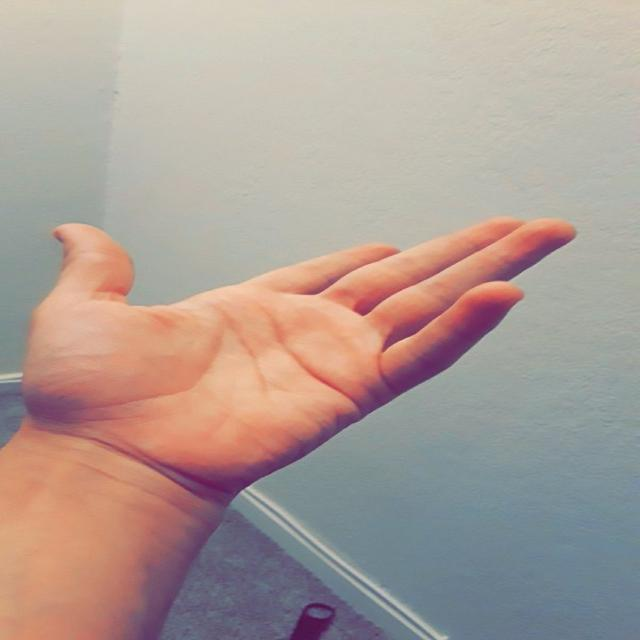no-gloves: (20, 217, 580, 502)
